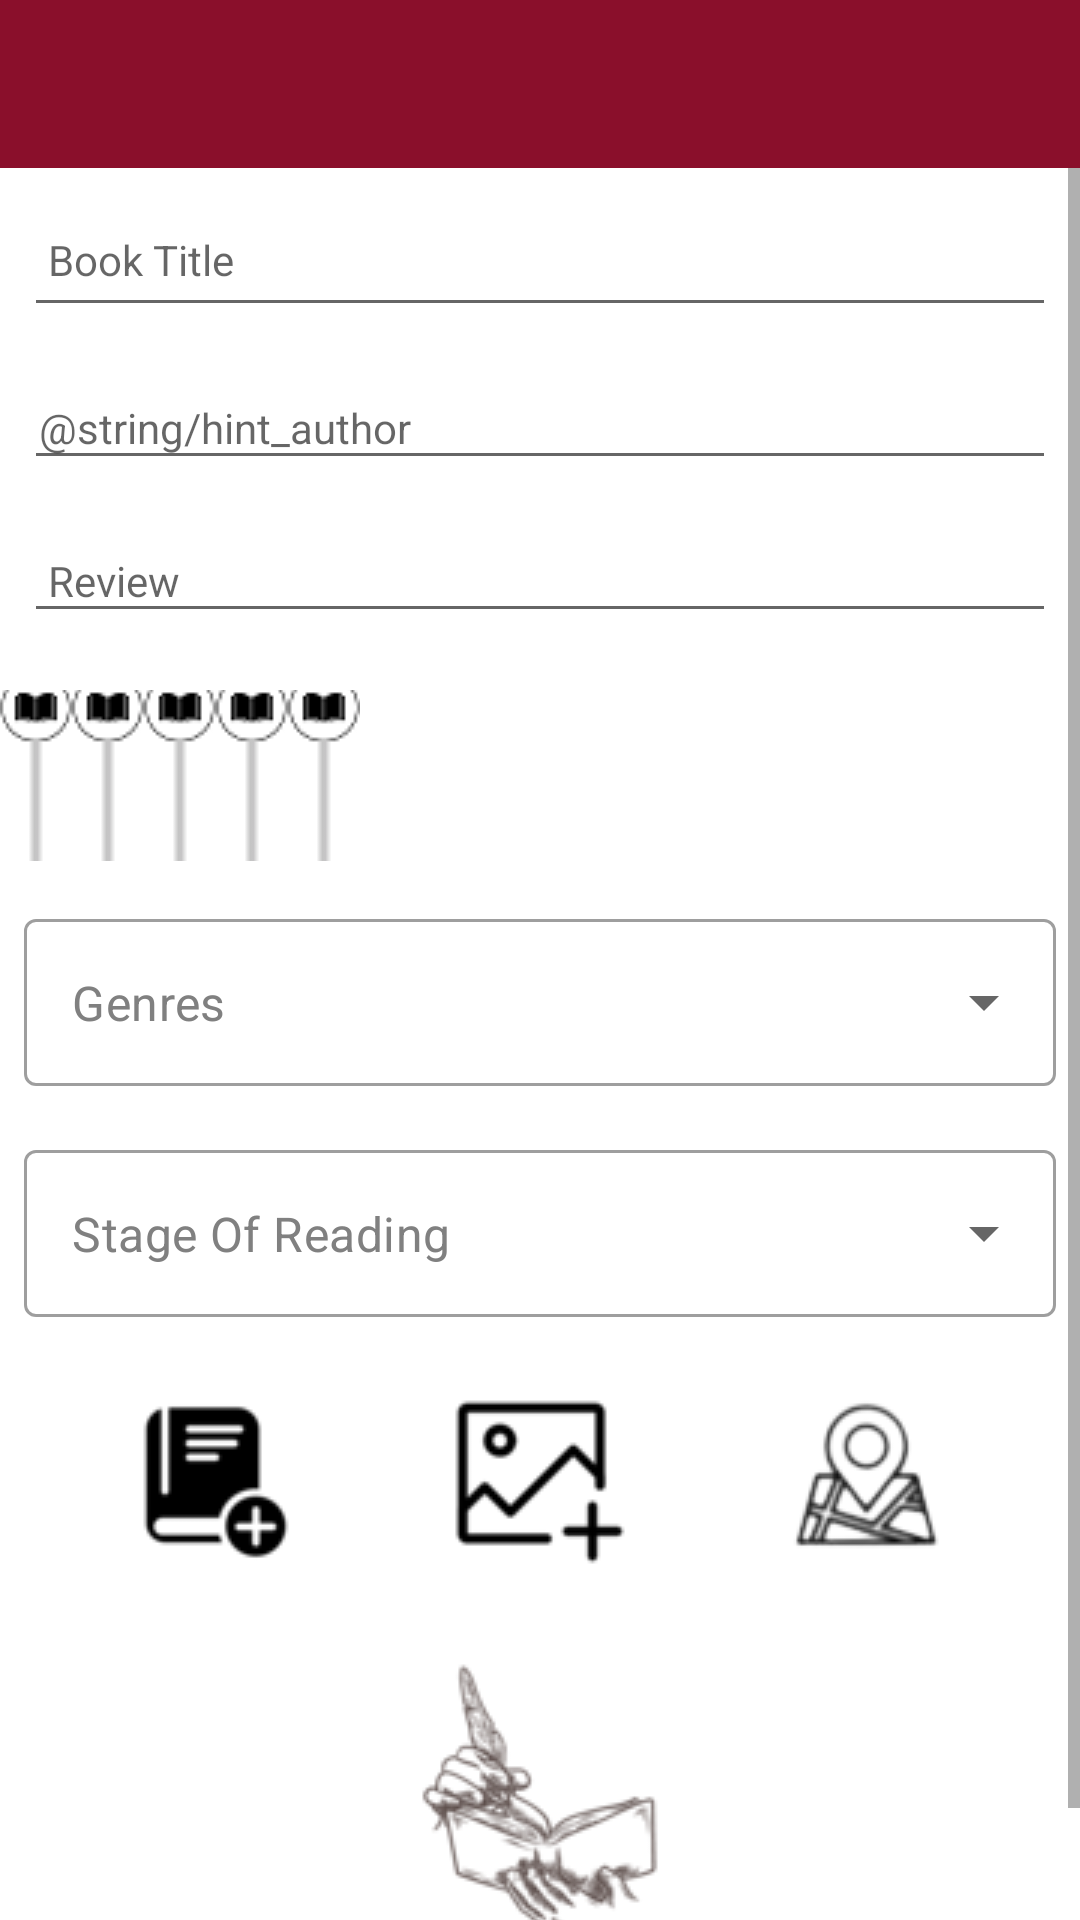

Point at icon controls on the screen. Image size 1080px×1920px, points as (x=x, y=y).
Add Image: (x=540, y=1481)
Save Book: (x=216, y=1482)
Set Location: (x=866, y=1474)
